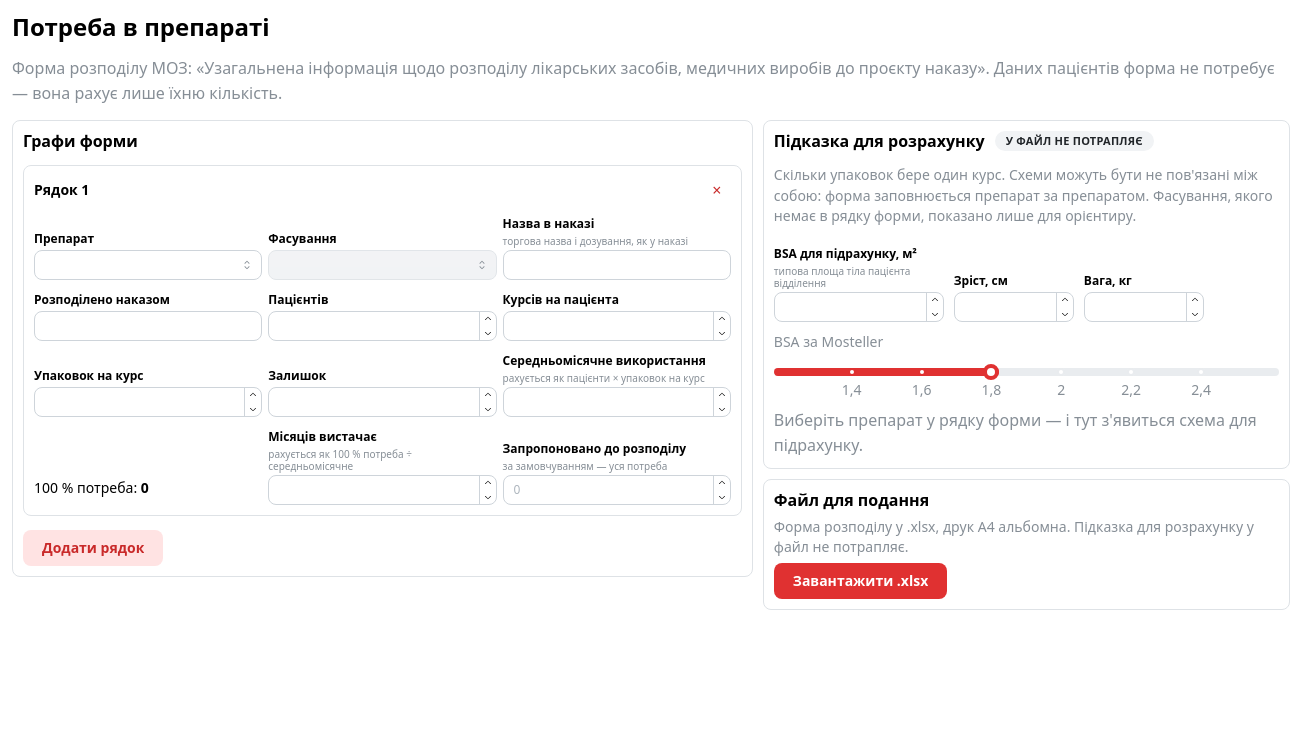
Test: NeedPage › works out the body surface from a height and a weight, so nothing has to be typed twice
Click the dropdown labelled "Препарат".
click(148, 265)  # box left=34, top=250, right=262, bottom=280
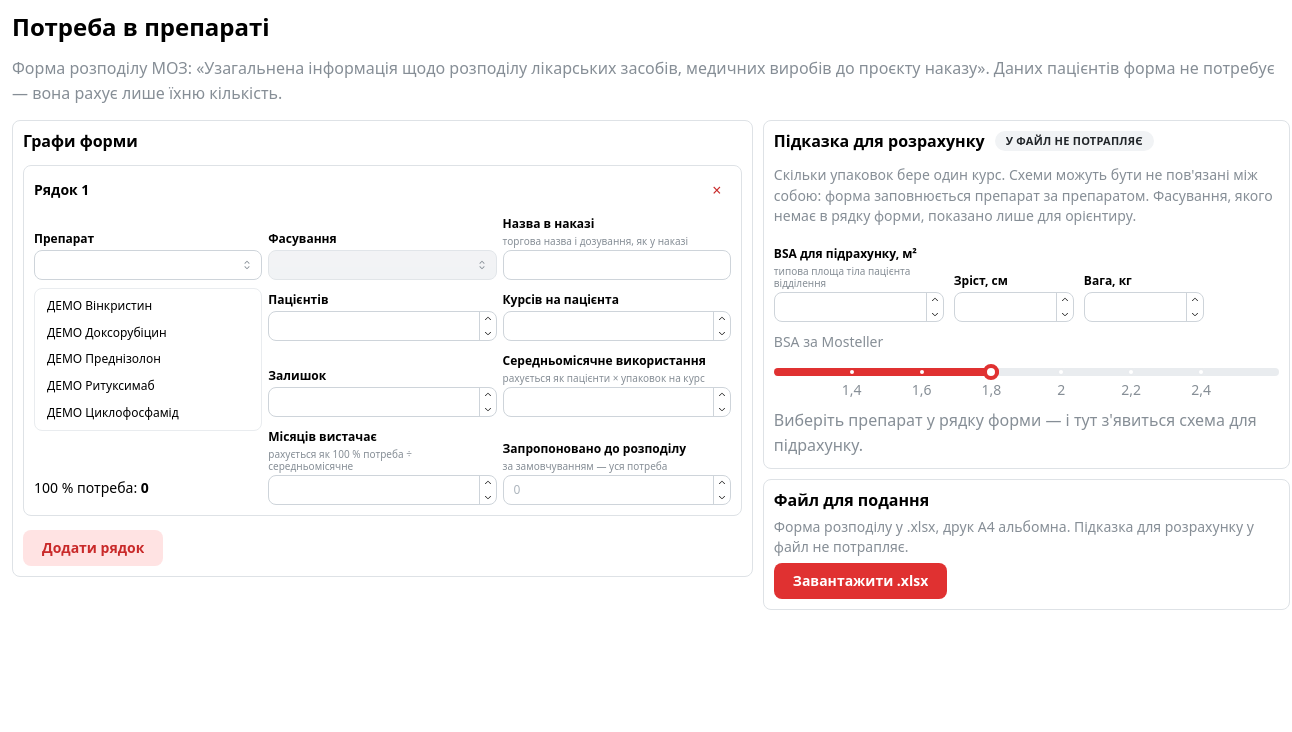
Click the option "ДЕМО Ритуксимаб".
click(101, 386)  # box left=47, top=377, right=155, bottom=394
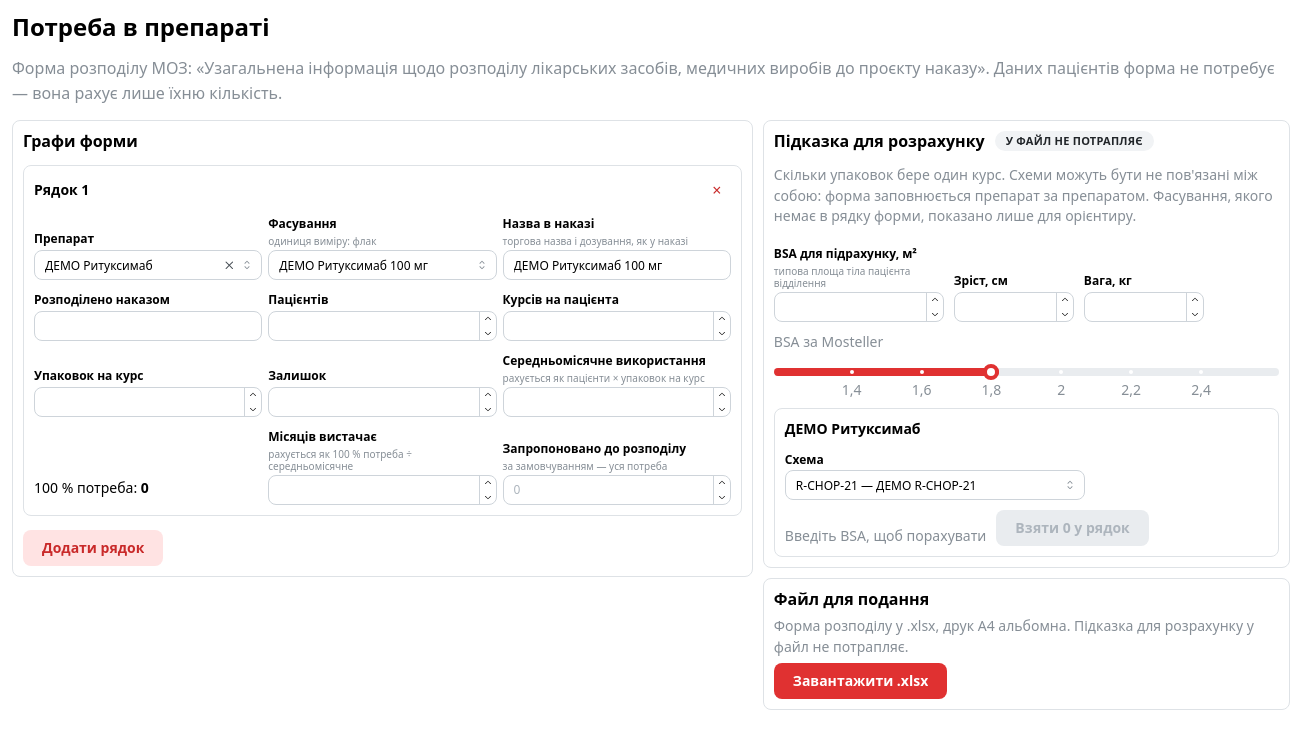
Type "180" into the field labelled "Зріст, см".
click(1014, 307); type("180")  # box left=954, top=292, right=1074, bottom=322
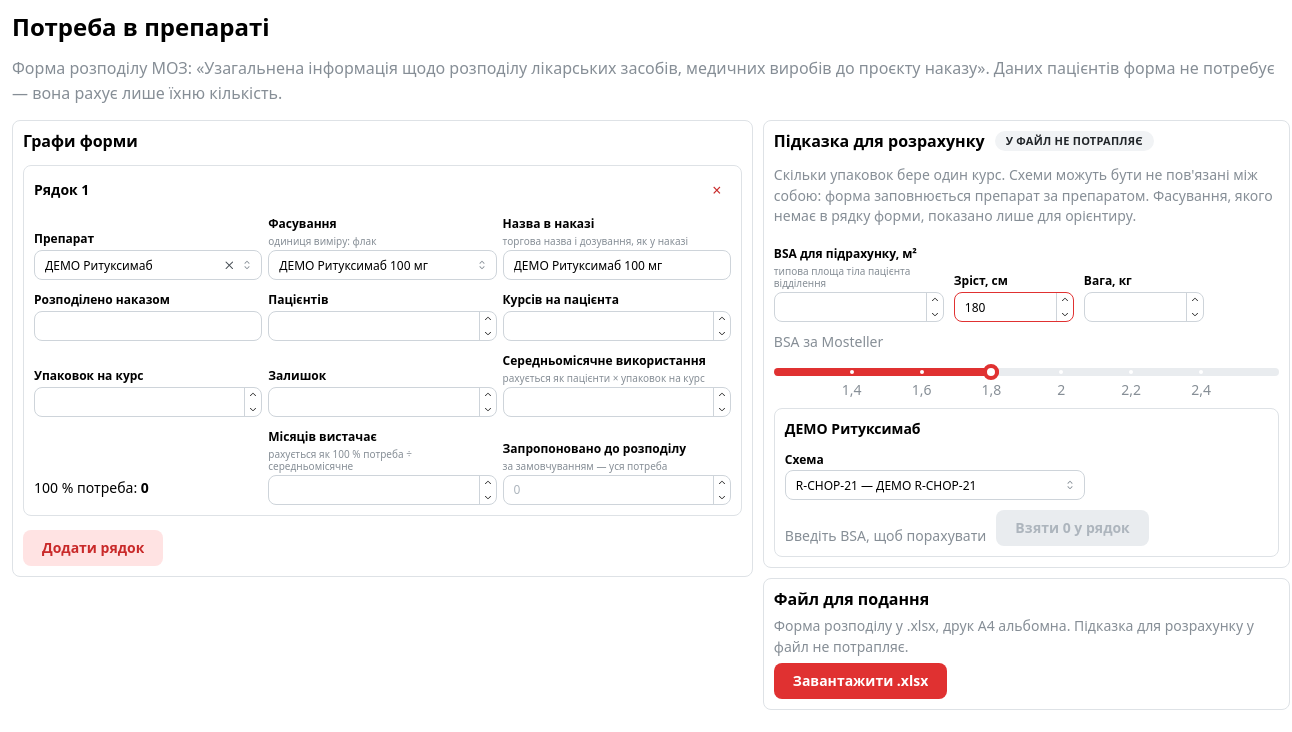
Type "80" into the field labelled "Вага, кг".
click(1144, 307); type("80")  # box left=1084, top=292, right=1204, bottom=322
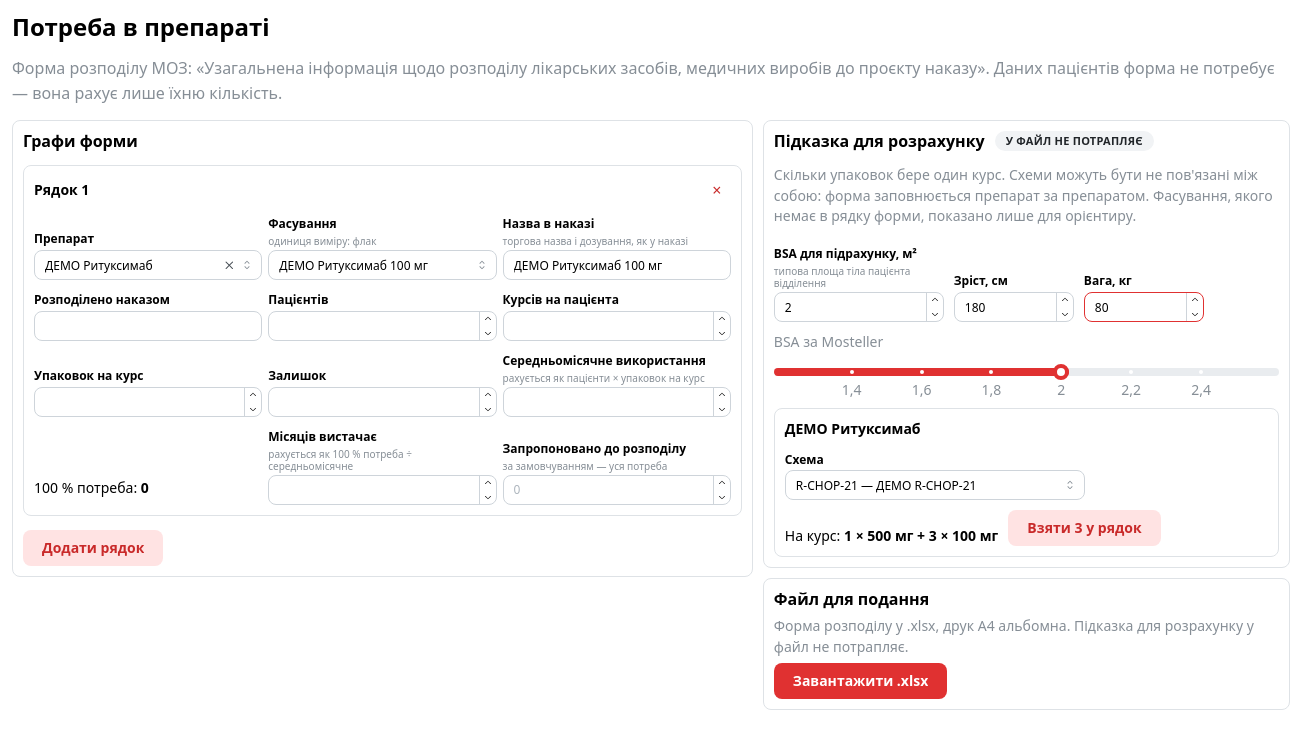
Expected: the field labelled "BSA для підрахунку, м²" holds "2", left=774, top=292, right=944, bottom=322
Expected: the text "1 × 500 мг + 3 × 100 мг" is shown, left=844, top=526, right=998, bottom=545
